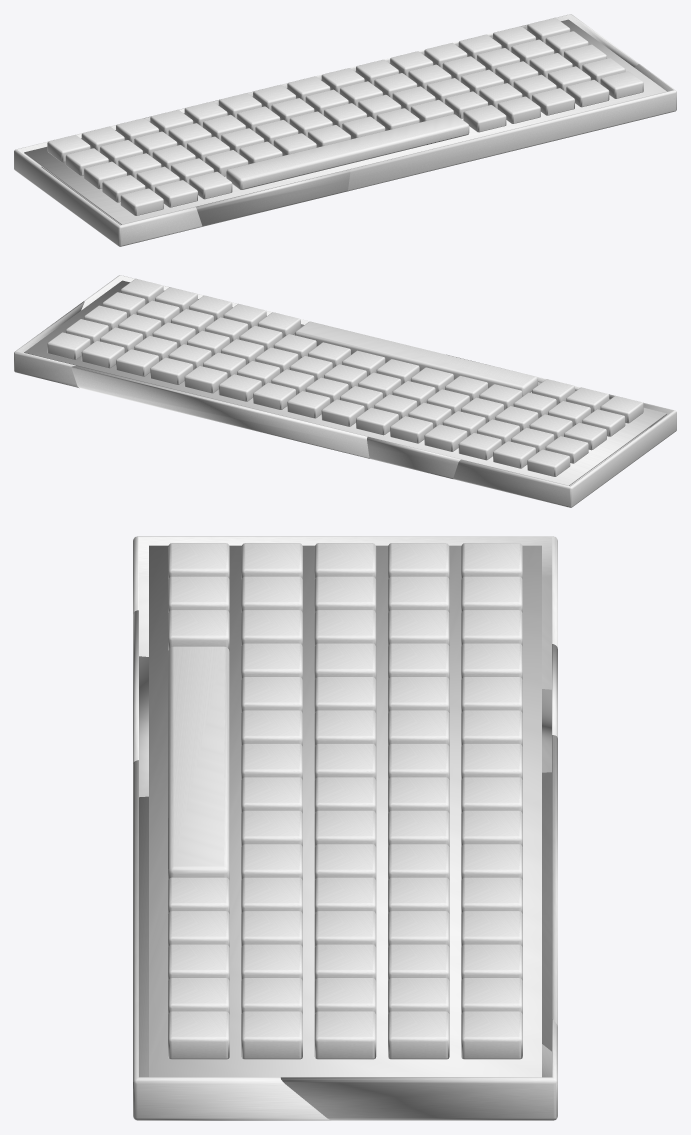
File: fracture-solids.glb
3 renders of one model, top to bottom at view 1: azimuth 30°, elevation 25°; view 2: azimuth 150°, elevation 25°; view 3: azimuth 270°, elevation 25°, orthographic. The views are drawn at different scales.
Parts seen in each view (by area): view 1: fragment-003, fragment-006, fragment-076, fragment-001, fragment-000, fragment-068, fragment-071, fragment-070, fragment-075, fragment-072, fragment-074, fragment-069 (+62 smaller); view 2: fragment-005, fragment-006, fragment-001, fragment-076, fragment-000, fragment-004, fragment-008, fragment-015, fragment-010, fragment-011, fragment-012, fragment-014 (+63 smaller); view 3: fragment-006, fragment-076, fragment-003, fragment-004, fragment-001, fragment-005, fragment-000, fragment-052, fragment-022, fragment-075, fragment-037, fragment-067 (+63 smaller).
Part boxes in pixels (x1,y1,x2,y2): fragment-003: (347, 64, 676, 191); fragment-006: (24, 19, 666, 224); fragment-076: (226, 114, 469, 189); fragment-001: (14, 125, 202, 246); fragment-000: (144, 100, 350, 226); fragment-068: (120, 188, 163, 215); fragment-071: (463, 105, 506, 132); fragment-070: (189, 171, 232, 199); fragment-075: (600, 71, 643, 98); fragment-072: (497, 96, 540, 123); fragment-074: (566, 80, 609, 107); fragment-069: (155, 180, 197, 207); fragment-005: (71, 365, 369, 458); fragment-006: (24, 280, 666, 485); fragment-001: (453, 394, 676, 507); fragment-076: (295, 321, 537, 396); fragment-000: (367, 354, 580, 478); fragment-004: (14, 301, 84, 387); fragment-008: (527, 449, 570, 476); fragment-015: (287, 391, 330, 418); fragment-010: (458, 432, 501, 460); fragment-011: (424, 424, 467, 451); fragment-012: (390, 416, 433, 443); fragment-014: (321, 399, 364, 426); fragment-006: (149, 545, 541, 1077); fragment-076: (168, 646, 229, 881); fragment-003: (133, 760, 330, 1120); fragment-004: (281, 1019, 557, 1120); fragment-001: (133, 536, 557, 689); fragment-005: (542, 735, 557, 1051); fragment-000: (133, 610, 557, 797); fragment-052: (314, 1011, 376, 1059); fragment-022: (461, 1011, 522, 1059); fragment-075: (168, 1011, 229, 1059); fragment-037: (388, 1011, 449, 1059); fragment-067: (241, 1011, 302, 1059).
Bounding box in the file's own units: 0.44 × 0.0225 × 0.145.
Materials: 1 (1 with a texture image).
